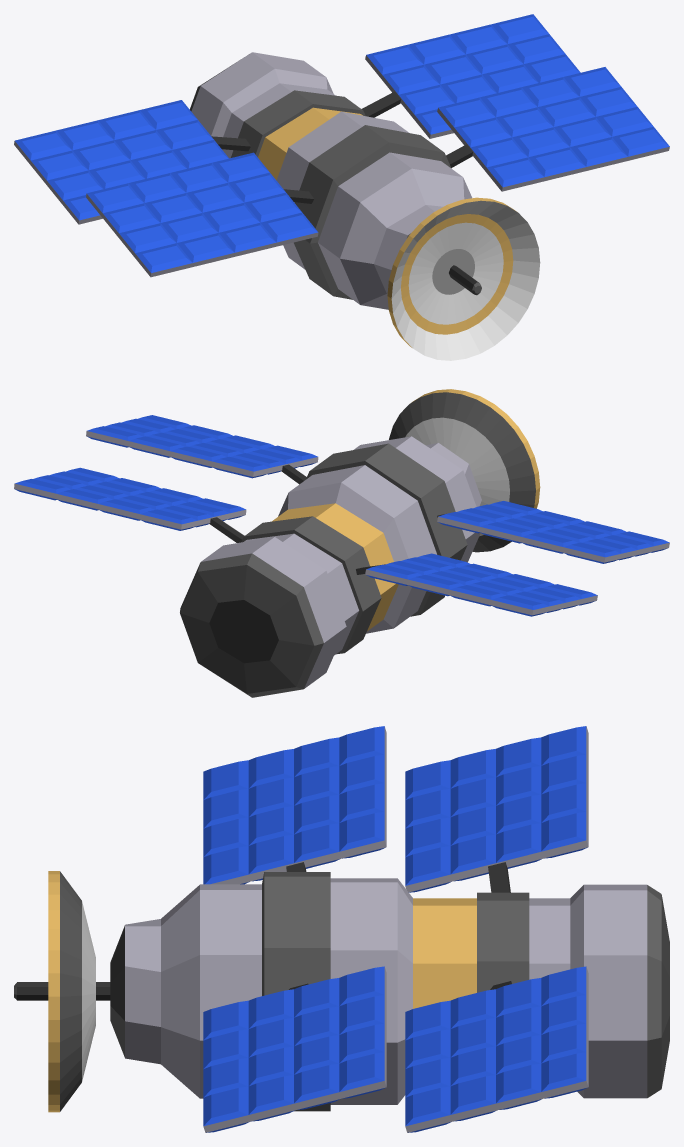
Rendered from satellite.glb.
3 renders of one model, top to bottom at view 1: azimuth 30°, elevation 25°; view 2: azimuth 150°, elevation 25°; view 3: azimuth 270°, elevation 25°, orthographic. The views are drawn at different scales.
Parts seen in each view (by area): view 1: Cube; view 2: Cube; view 3: Cube.
Part boxes in pixels (left/top/right/bottom): Cube: left=14, top=14, right=669, bottom=360; Cube: left=14, top=389, right=669, bottom=697; Cube: left=14, top=726, right=669, bottom=1132.
Size of the model in its own units: 8.4 by 2.54 by 6.56.
